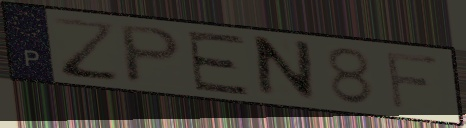8: (323, 45, 376, 108)
E: (184, 29, 253, 97)
F: (382, 49, 442, 112)
N: (254, 33, 319, 104)
P: (118, 22, 185, 86)
Z: (49, 15, 124, 85)
